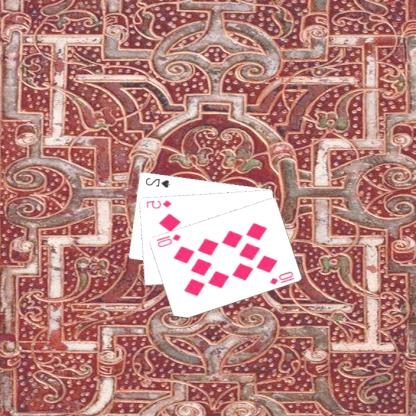10D: (268, 268, 298, 286), (155, 231, 184, 249)
2S: (144, 174, 173, 188)
5D: (146, 197, 174, 210)
